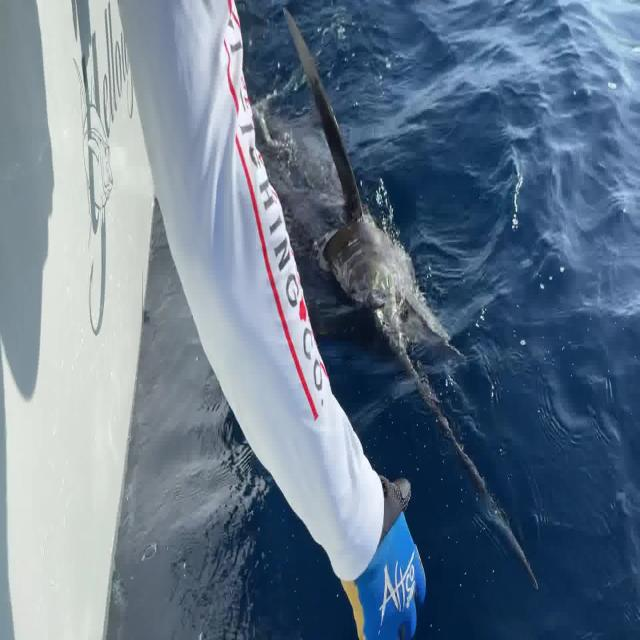Liberacion segura: (247, 5, 539, 593)
